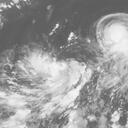cyclone: (47, 59, 89, 101), (97, 14, 127, 51)
